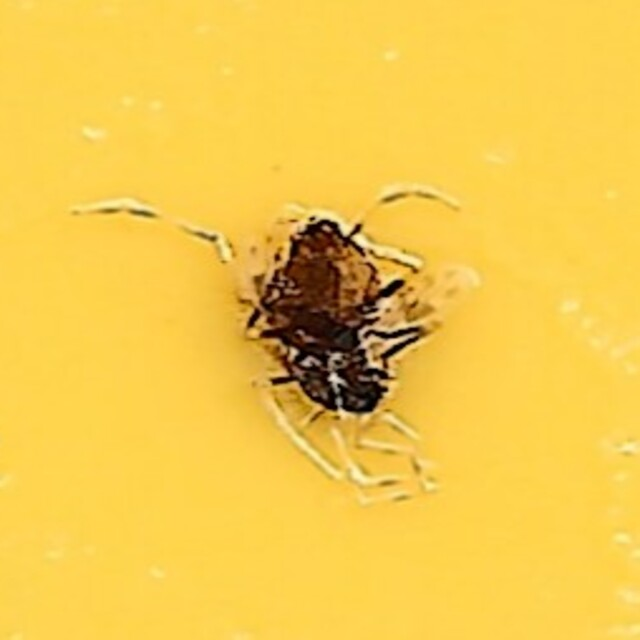Nematocera: (252, 215, 388, 425)
